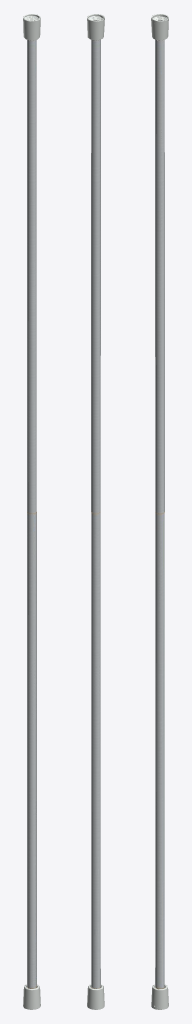
Rendered from LILLREVET Flexible douche blanc 150 cm.glb.
3 renders of one model, left to right at view 1: azimuth 90°, elevation 25°; view 2: azimuth 150°, elevation 25°; view 3: azimuth 330°, elevation 25°, orthographic.
Visible parts, largest first — view 1: model; view 2: model; view 3: model.
Boxes of the visible parts, bbox=[...] form: model: bbox=[23, 14, 40, 1009]; model: bbox=[87, 14, 104, 1009]; model: bbox=[151, 14, 168, 1009].
Bounding box in the file's own units: 0.0246 × 1.5 × 0.0246.
1 material, 1 textured.
